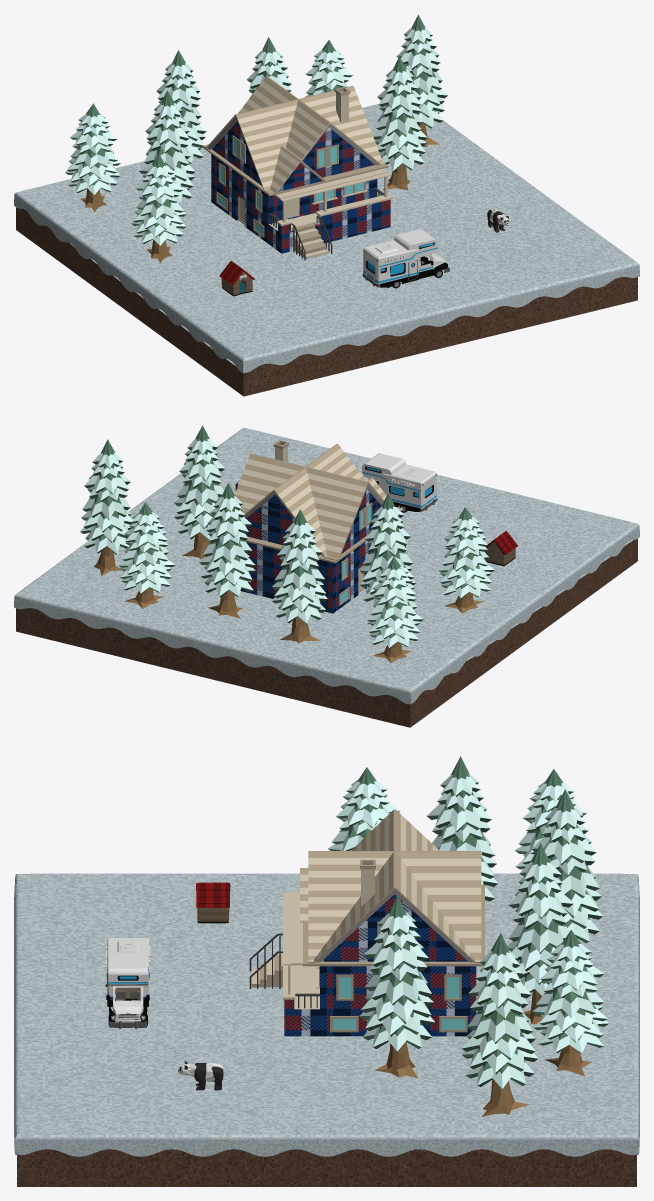
The picture shows the model from 3 angles, top to bottom: view 1: azimuth 30°, elevation 25°; view 2: azimuth 150°, elevation 25°; view 3: azimuth 270°, elevation 25°; orthographic projection. The views are drawn at different scales.
Visible parts, largest first — view 1: Cube.003, Cube.171, VEHICLES_CAMPER, OBJRANDOM_DOGHOUSE; view 2: Cube.003, Cube.171, VEHICLES_CAMPER, OBJRANDOM_DOGHOUSE; view 3: Cube.003, Cube.171, VEHICLES_CAMPER, OBJRANDOM_DOGHOUSE, ANIMAL_PANDA.
Part boxes in pixels (box(x1,y1,x2,y2)): Cube.003: box(14, 14, 639, 396); Cube.171: box(202, 76, 393, 260); VEHICLES_CAMPER: box(362, 229, 449, 288); OBJRANDOM_DOGHOUSE: box(219, 261, 254, 296); Cube.003: box(14, 425, 639, 727); Cube.171: box(234, 440, 405, 613); VEHICLES_CAMPER: box(362, 453, 437, 512); OBJRANDOM_DOGHOUSE: box(485, 531, 517, 566); Cube.003: box(14, 756, 639, 1186); Cube.171: box(249, 809, 484, 1036); VEHICLES_CAMPER: box(105, 938, 150, 1028); OBJRANDOM_DOGHOUSE: box(196, 882, 230, 923); ANIMAL_PANDA: box(178, 1061, 223, 1090).
Size of the model in its own units: 4040 by 1642 by 4040.
31 materials, 5 textured.
